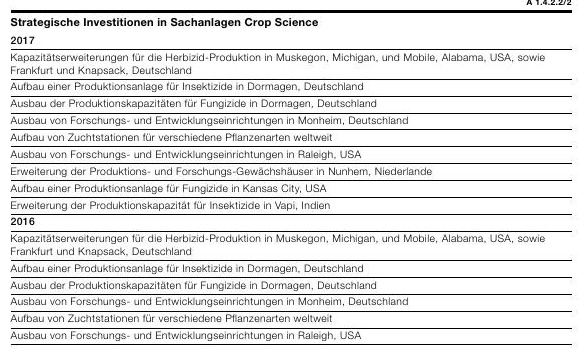table: (0, 0, 579, 356)
